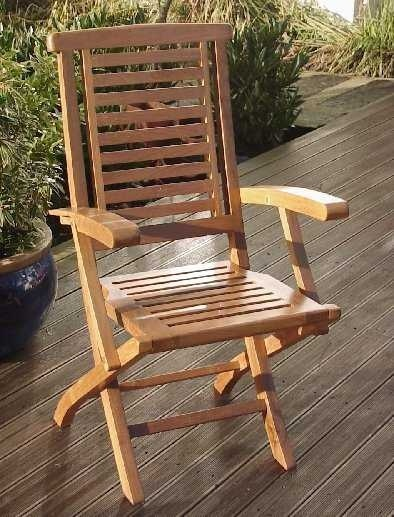obstacle: (48, 24, 347, 503)
